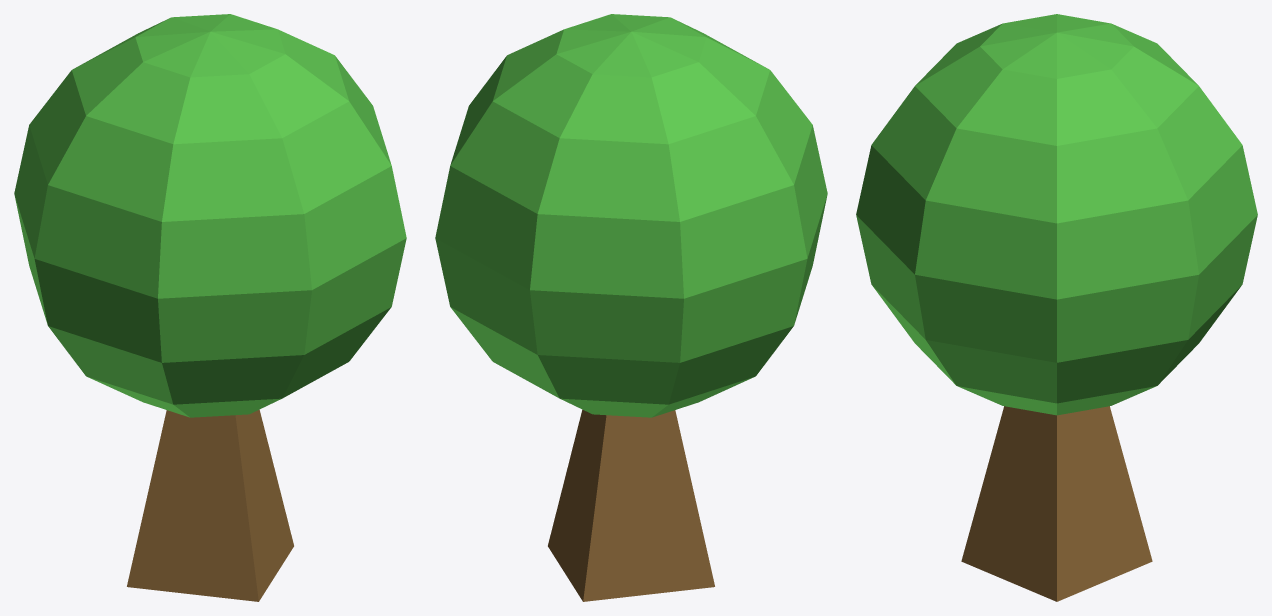
File: SmallBushTree.fbx
The picture shows the model from 3 angles, left to right: view 1: azimuth 30°, elevation 25°; view 2: azimuth 150°, elevation 25°; view 3: azimuth 270°, elevation 25°; orthographic projection.
Parts seen in each view (by area): view 1: Bush, Basic Trunk; view 2: Bush, Basic Trunk; view 3: Bush, Basic Trunk.
Part boxes in pixels (x1,y1,x2,y2): Bush: (14,14,406,417); Basic Trunk: (127,409,293,601); Bush: (435,14,827,417); Basic Trunk: (548,409,714,601); Bush: (856,14,1257,415); Basic Trunk: (961,406,1152,601).
Size of the model in its own units: 840 by 1220 by 840.
